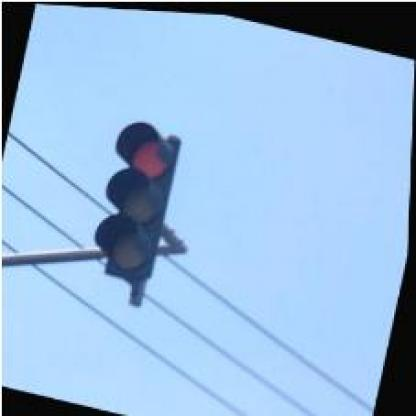red: (87, 112, 184, 284)
